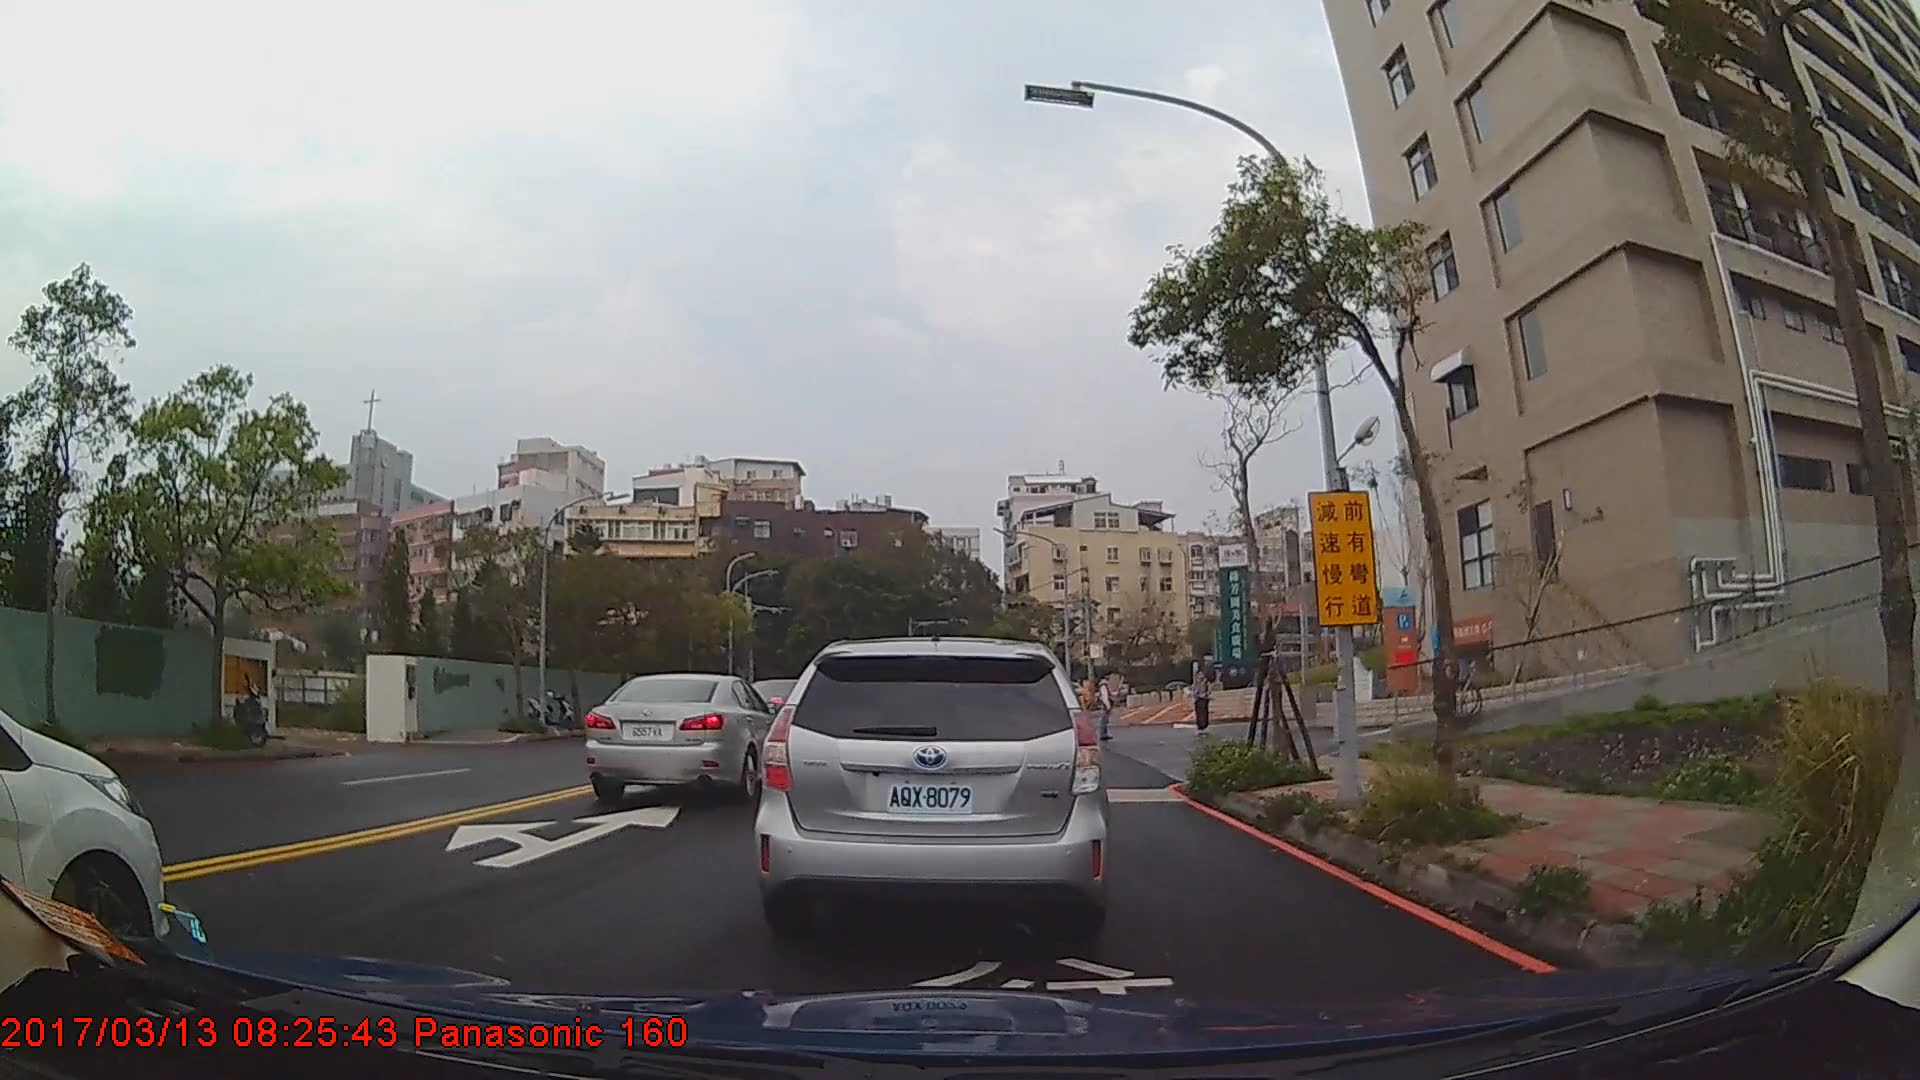pedestrian: (1096, 667, 1119, 743), (1192, 673, 1213, 735)
vehicle: (755, 637, 1112, 942), (0, 698, 168, 971), (580, 671, 785, 803)
